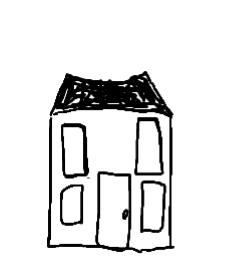bottom_placed_house: (3, 1, 247, 260)
door: (92, 158, 139, 255)
open_window: (131, 115, 167, 179), (56, 120, 89, 178), (138, 178, 168, 239), (56, 181, 85, 230)
shaded_roof: (42, 57, 181, 118)
wall: (43, 103, 179, 255)
